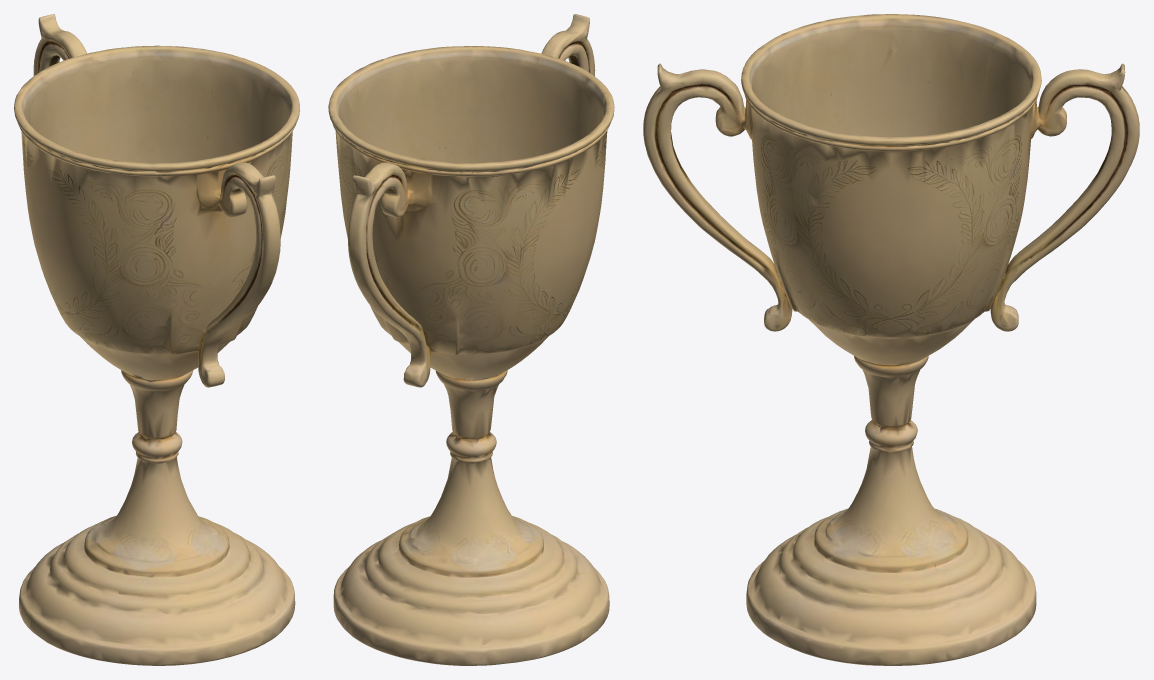
Rendered from prop-trophy-opt.glb.
3 views of the same model, side by side, from view 1: azimuth 30°, elevation 25°; view 2: azimuth 150°, elevation 25°; view 3: azimuth 270°, elevation 25° (orthographic). The views are drawn at different scales.
Visible parts, largest first — view 1: tripo_node_c4b4bc58-2219-408f-8e11-6c409434764b; view 2: tripo_node_c4b4bc58-2219-408f-8e11-6c409434764b; view 3: tripo_node_c4b4bc58-2219-408f-8e11-6c409434764b.
Boxes of the visible parts, x1,y1,x2,y2 form: tripo_node_c4b4bc58-2219-408f-8e11-6c409434764b: (14,14,299,665); tripo_node_c4b4bc58-2219-408f-8e11-6c409434764b: (328,14,614,665); tripo_node_c4b4bc58-2219-408f-8e11-6c409434764b: (643,14,1139,665).
Size of the model in its own units: 0.5059 by 1 by 0.8351.
1 material, 1 textured.
